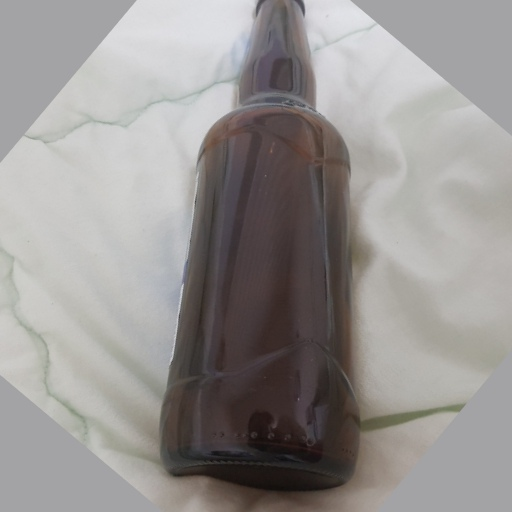Glass_1: (157, 4, 362, 492)
